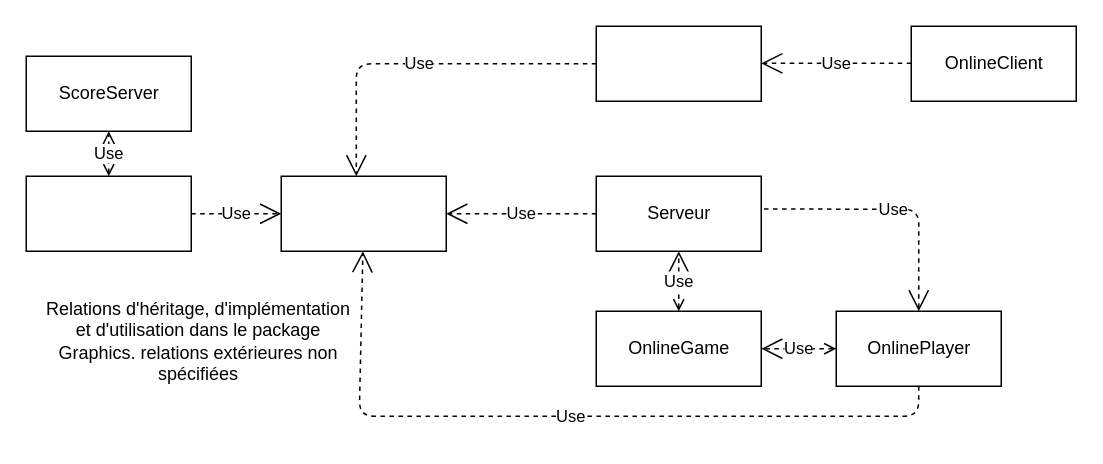
This 1103x464 diagram has some shape labels left out. The centre of each missing label's shape, as x and y in pixels:
"Command" goes at point (363, 213).
"Connexion" goes at point (108, 213).
"NetworkManager" goes at point (678, 63).
